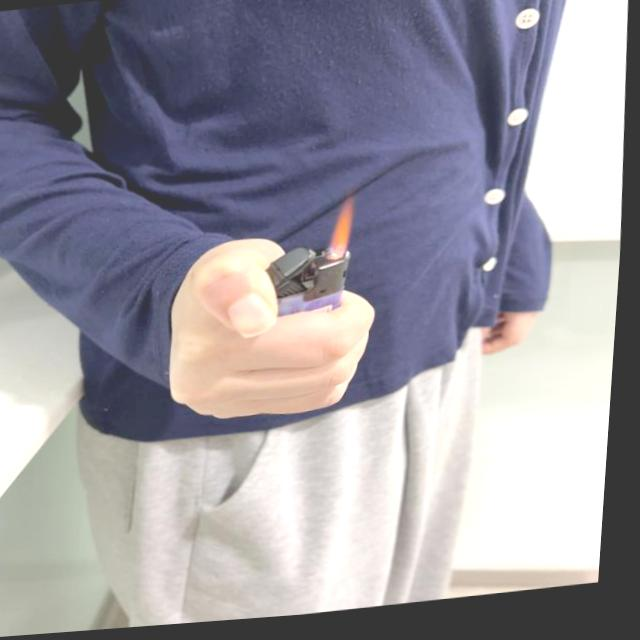Fire: (326, 194, 360, 266)
